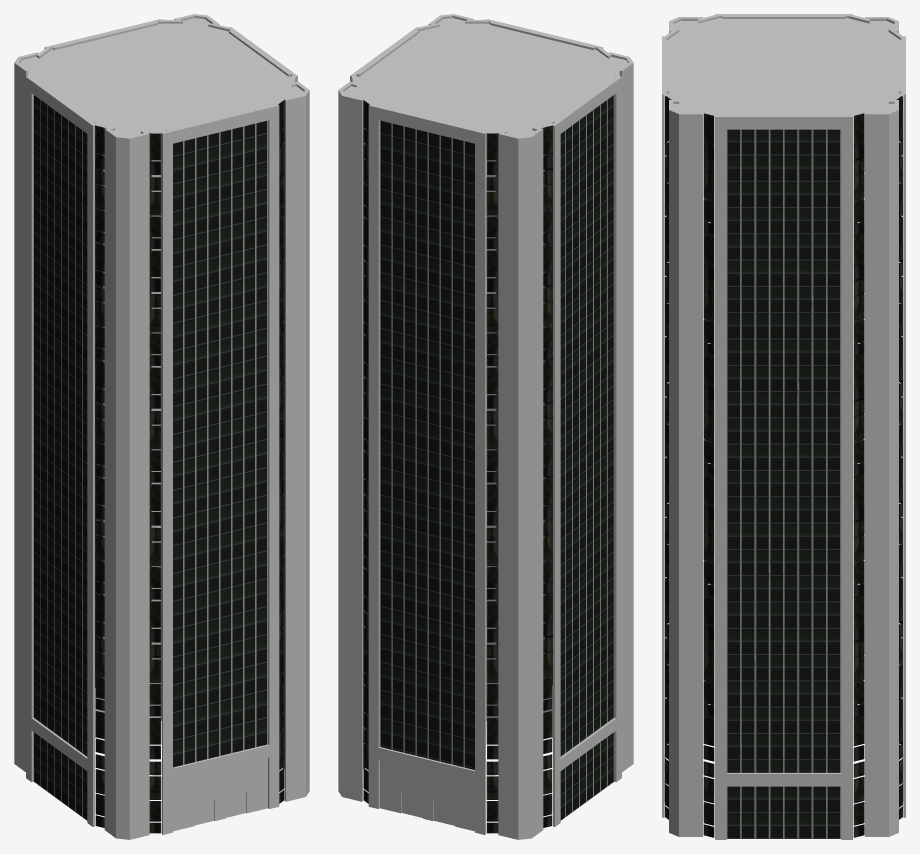
The picture shows the model from 3 angles, left to right: view 1: azimuth 30°, elevation 25°; view 2: azimuth 150°, elevation 25°; view 3: azimuth 270°, elevation 25°; orthographic projection. The views are drawn at different scales.
Visible parts, largest first — view 1: BC-086; view 2: BC-086; view 3: BC-086.
Boxes of the visible parts, left/top/right/bottom form: BC-086: left=14, top=14, right=309, bottom=839; BC-086: left=338, top=14, right=633, bottom=839; BC-086: left=662, top=14, right=905, bottom=839.
Size of what is drawn, in the model's own units: 26.83 by 87.68 by 26.82.
